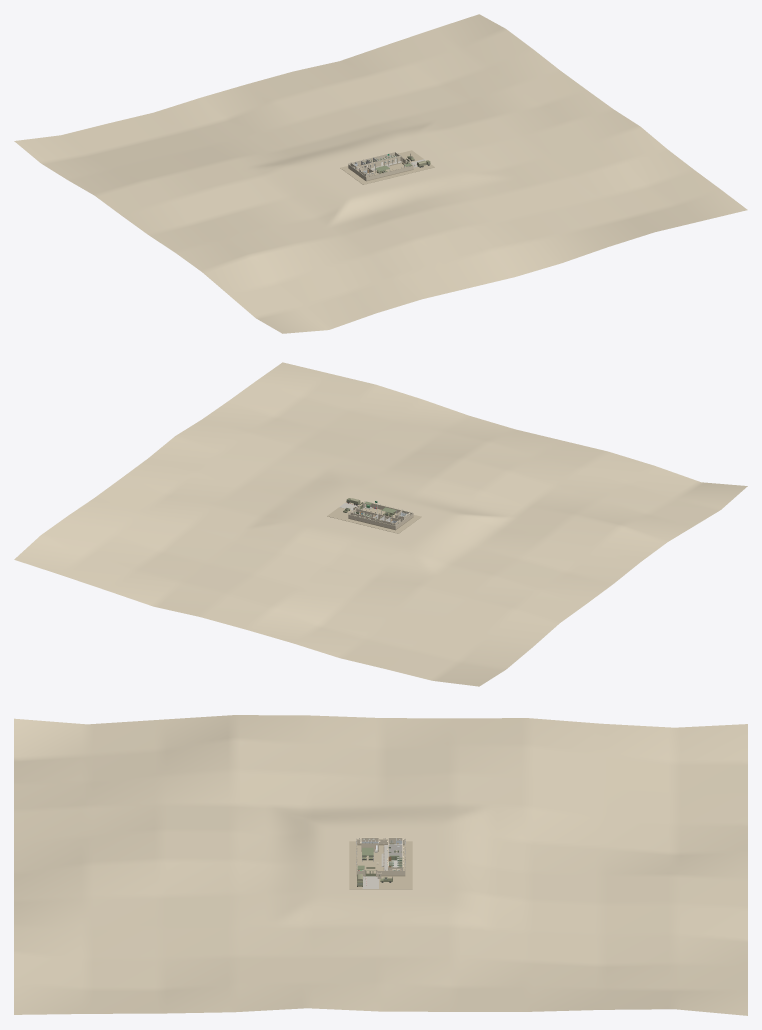
File: Khabri1_Opt1_Post.glb
3 renders of one model, top to bottom at view 1: azimuth 30°, elevation 25°; view 2: azimuth 150°, elevation 25°; view 3: azimuth 270°, elevation 25°, orthographic. The views are drawn at different scales.
Parts seen in each view (by area): view 1: Terrain near, Structure; view 2: Terrain near, Structure; view 3: Terrain near, Structure.
Boxes of the visible parts, bbox=[...] form: Terrain near: bbox=[14, 14, 747, 333]; Structure: bbox=[340, 150, 434, 184]; Terrain near: bbox=[14, 362, 747, 686]; Structure: bbox=[327, 501, 421, 533]; Terrain near: bbox=[14, 715, 747, 1015]; Structure: bbox=[349, 837, 412, 889].
Bounding box in the file's own units: 300 × 20.91 × 300.
